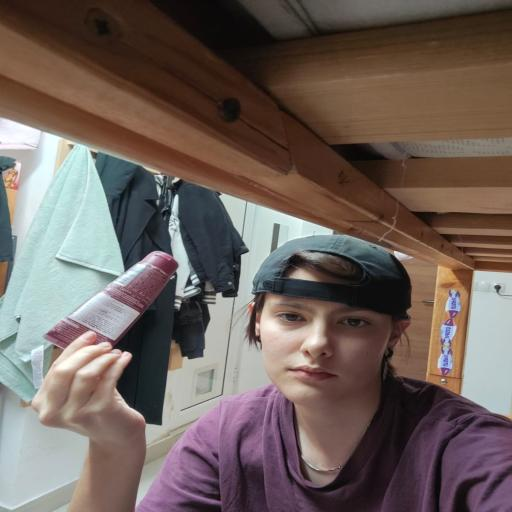Crema Maini: (41, 248, 177, 366)
